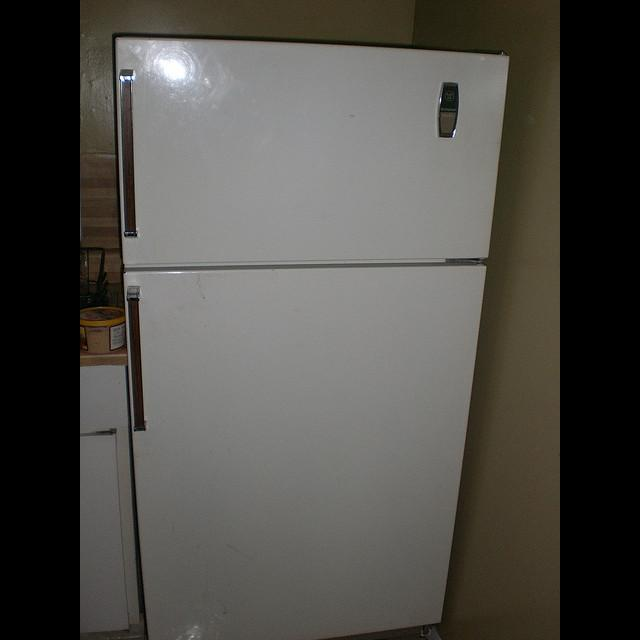Refrigerator: (114, 39, 510, 628)
